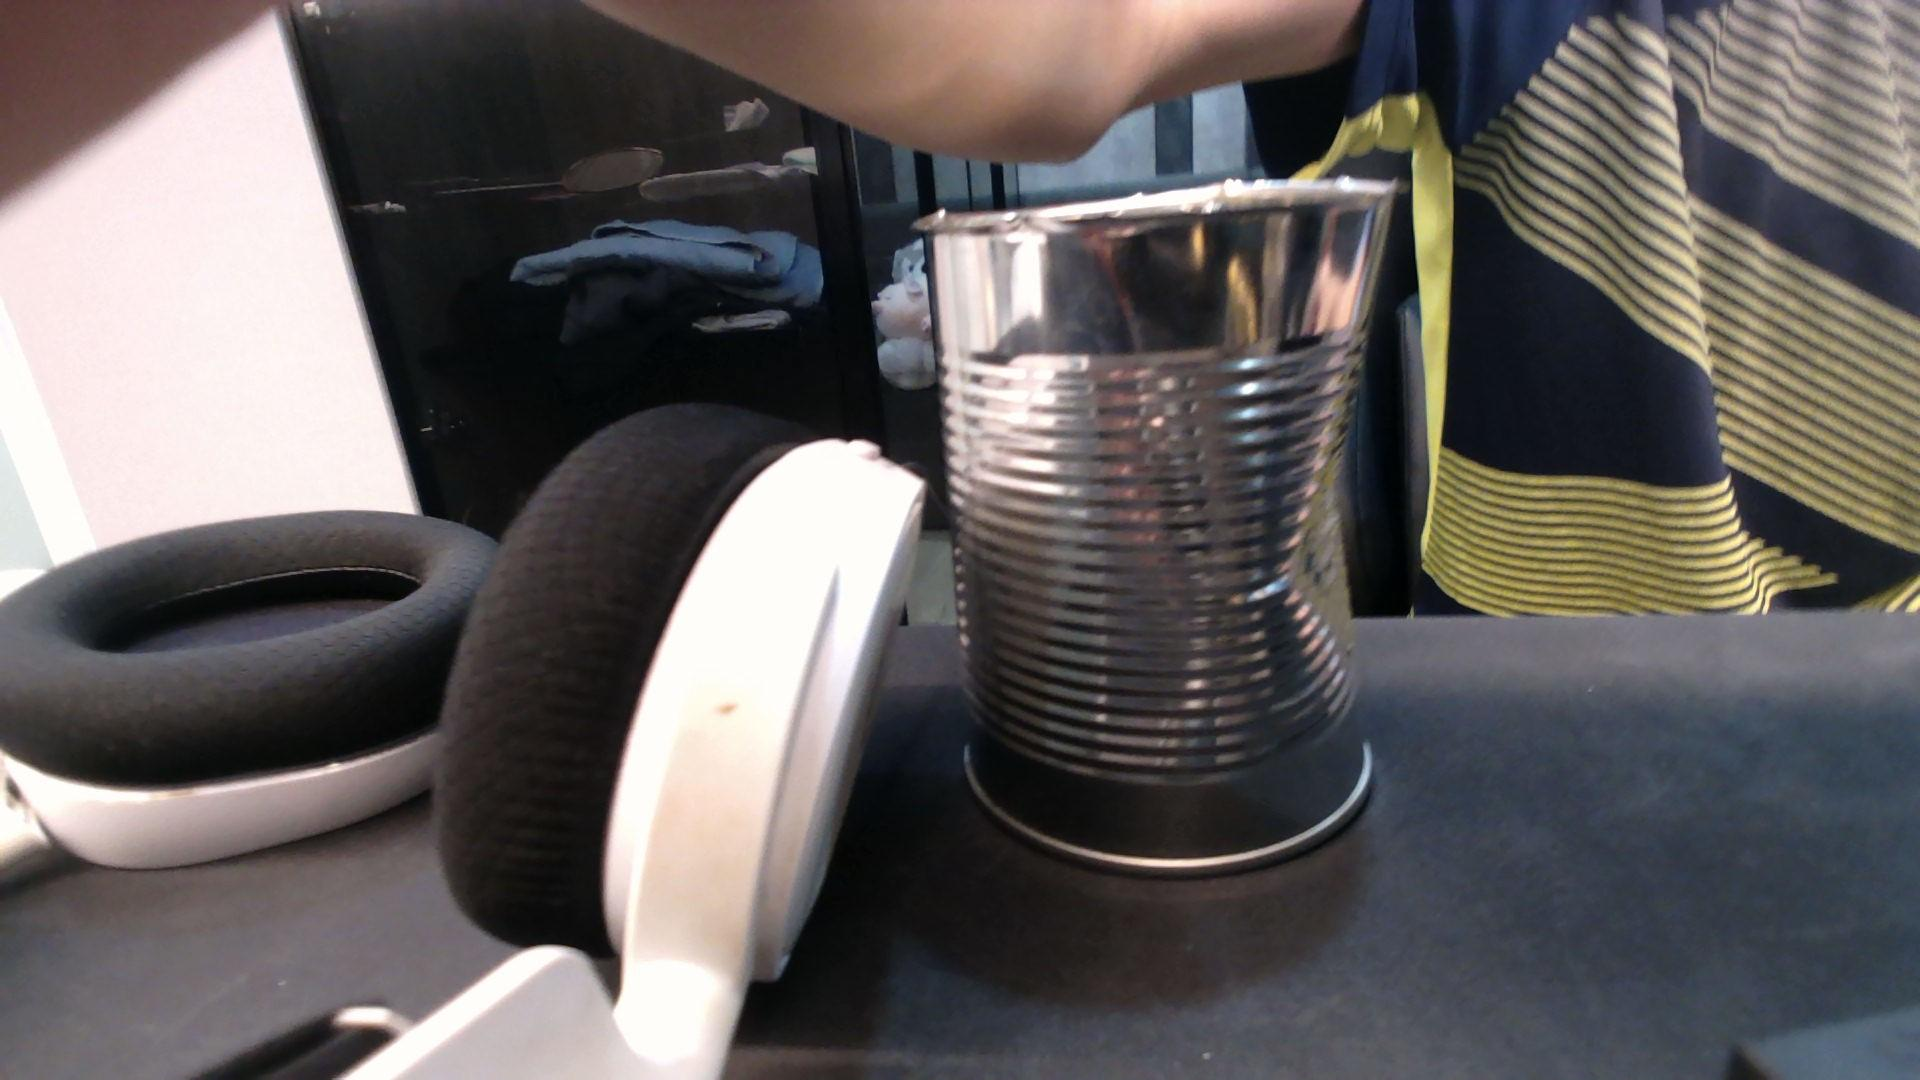metal: (922, 179, 1394, 874)
